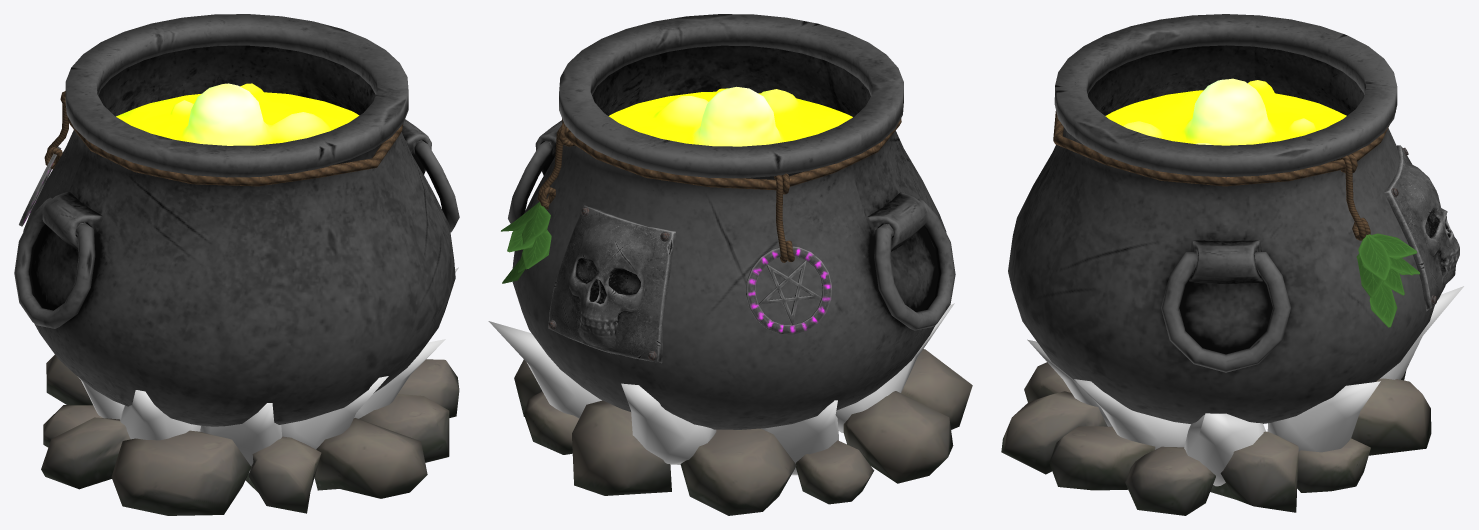
Rendered from modified_cauldron.fbx.
3 renders of one model, left to right at view 1: azimuth 30°, elevation 25°; view 2: azimuth 150°, elevation 25°; view 3: azimuth 270°, elevation 25°, orthographic.
Visible parts, largest first — view 1: Cauldron, Fire; view 2: Cauldron, Fire; view 3: Cauldron, Fire.
Boxes of the visible parts, x1,y1,x2,y2 form: Cauldron: (14, 14, 459, 515); Fire: (78, 267, 458, 472); Cauldron: (501, 14, 972, 515); Fire: (488, 303, 954, 475); Cauldron: (1001, 14, 1459, 515); Fire: (1027, 286, 1463, 486).
Bounding box in the file's own units: 267 × 216 × 257.
